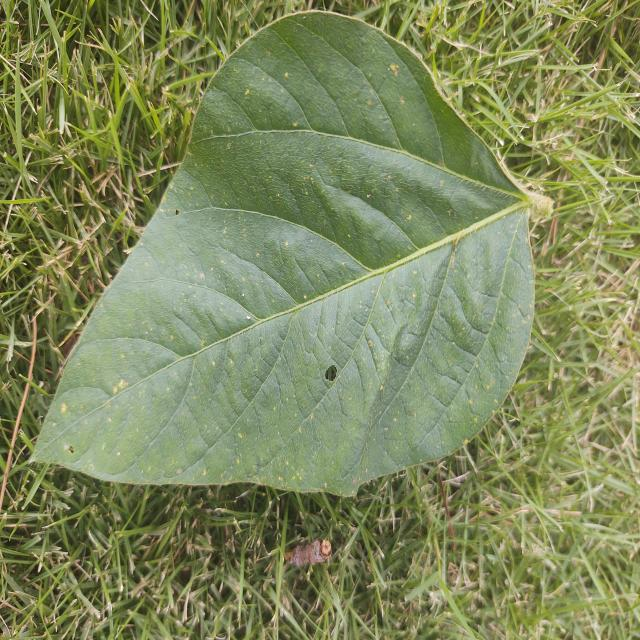Soybean: (33, 13, 536, 498)
downey_mildew: (431, 224, 535, 450), (165, 320, 314, 475), (131, 211, 311, 328), (310, 265, 396, 450), (108, 281, 270, 359), (419, 66, 505, 196), (204, 52, 319, 145), (48, 338, 187, 410), (312, 178, 418, 270), (415, 157, 522, 246), (368, 240, 429, 373), (367, 357, 437, 471), (229, 234, 332, 298), (391, 287, 467, 372), (240, 308, 306, 403), (483, 255, 534, 377), (336, 61, 402, 142), (436, 279, 491, 361), (192, 88, 260, 145), (359, 317, 393, 398), (392, 306, 433, 367)
